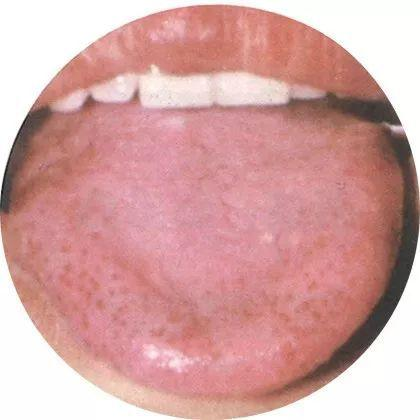baitaishe: (10, 101, 405, 399)
hongdianshe: (46, 246, 165, 345)
